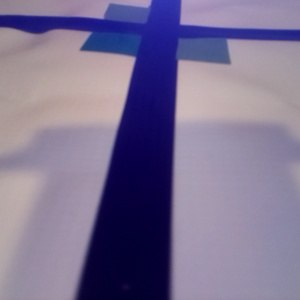bottom_left: (80, 24, 178, 56)
bottom_right: (142, 27, 231, 64)
top_left: (105, 4, 180, 32)
